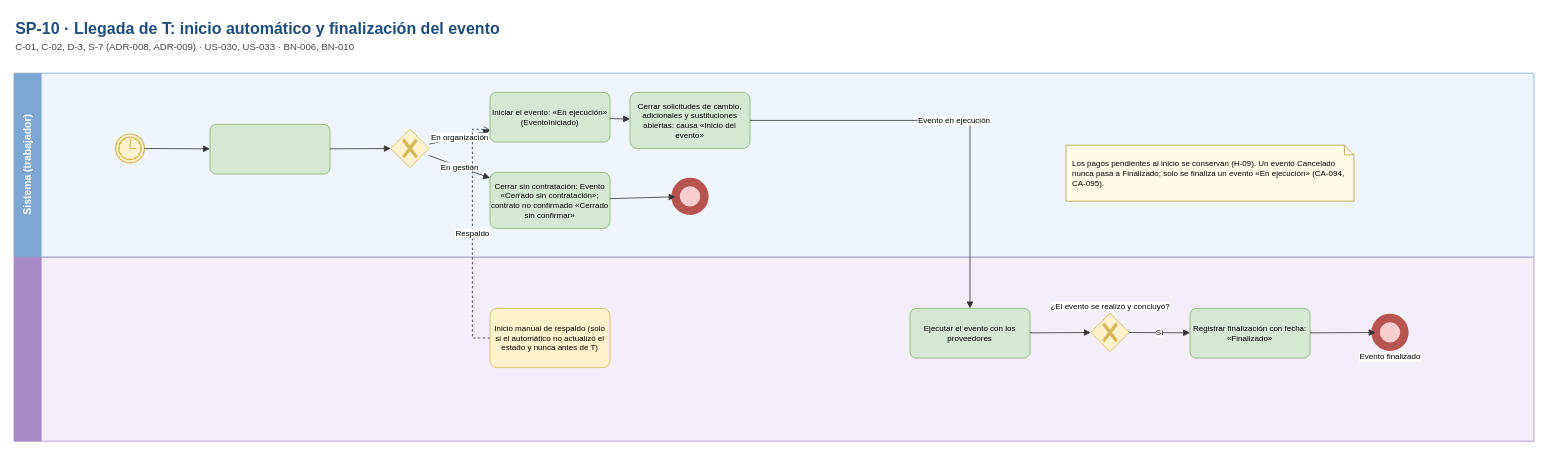
Image size: 1548x455. Some labels were removed from this diagram. Each missing label, with the box of its shape:
Buscar eventos cuya fecha y hora de inicio (T) ya llegó: (209, 124, 330, 174)
Ciclo cada 2 s: (115, 133, 145, 163)
Coordinador: (13, 256, 1534, 441)
Estado del evento en T: (390, 128, 429, 168)
Proceso de contratación cerrado: (674, 180, 705, 212)
